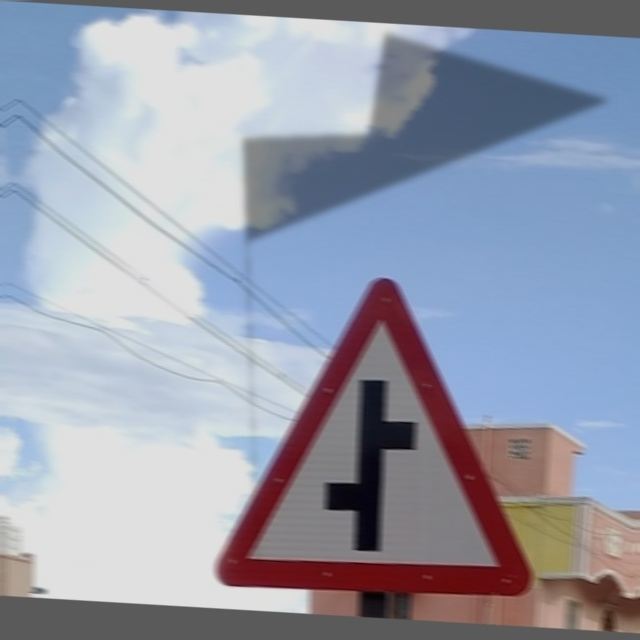Staggered_Intersection: (204, 242, 548, 608)
